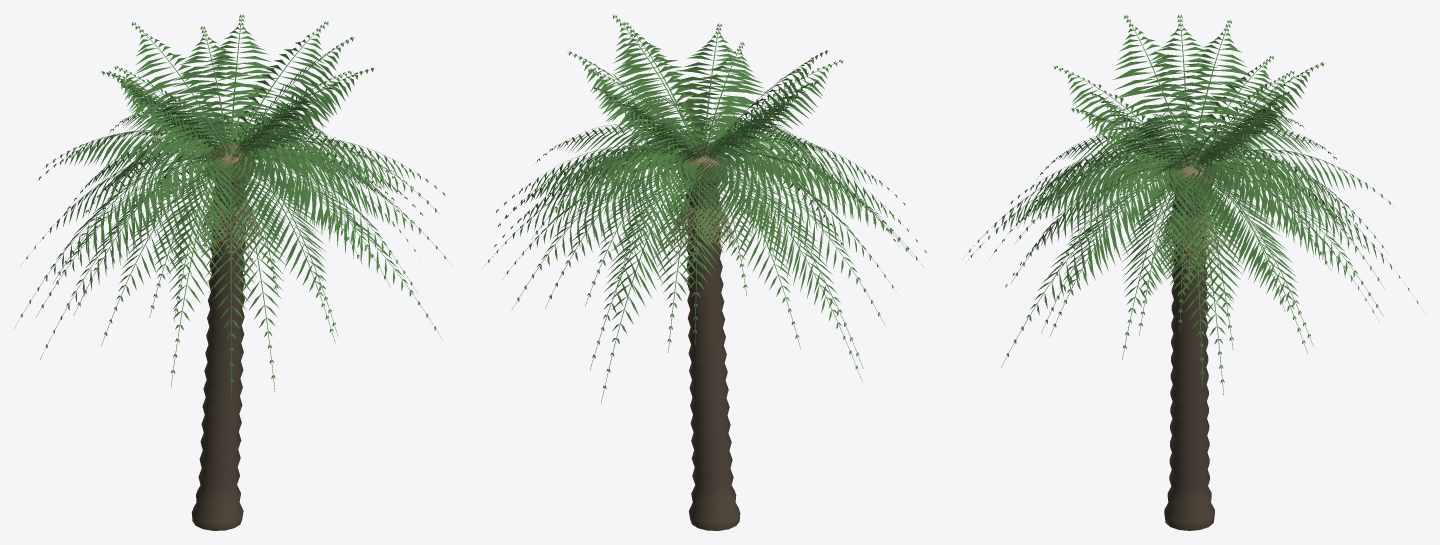
Rendered from palma.glb.
3 views of the same model, side by side, from view 1: azimuth 30°, elevation 25°; view 2: azimuth 150°, elevation 25°; view 3: azimuth 270°, elevation 25° (orthographic).
Visible parts, largest first — view 1: palma_fronde, palma_tronco, palma_secche; view 2: palma_fronde, palma_tronco, palma_secche; view 3: palma_fronde, palma_tronco, palma_secche.
Part boxes in pixels (box(x1,y1,x2,y2)): palma_fronde: box(14, 14, 452, 396); palma_tronco: box(191, 144, 253, 530); palma_secche: box(198, 200, 266, 265); palma_fronde: box(482, 14, 926, 403); palma_tronco: box(677, 146, 740, 530); palma_secche: box(665, 202, 737, 264); palma_fronde: box(962, 14, 1418, 394); palma_tronco: box(1164, 156, 1214, 530); palma_secche: box(1151, 210, 1225, 278).
Size of the model in its own units: 7.42 by 8.33 by 7.51.
